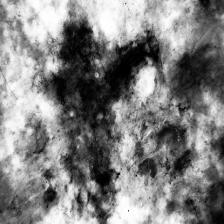Benign Marking or Mole: (37, 22, 179, 224)
